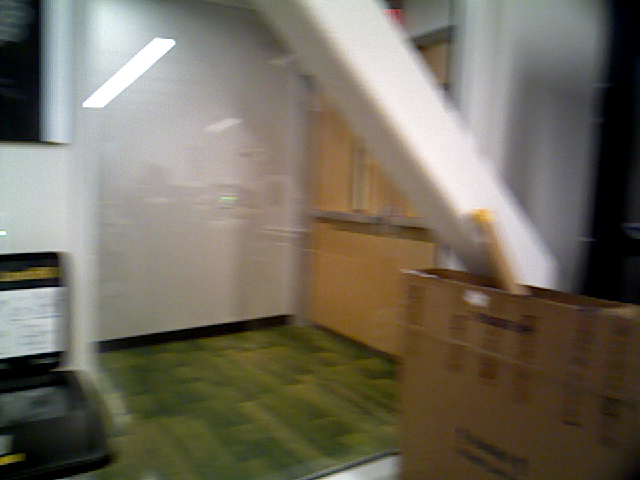painting1: (1, 1, 63, 146)
